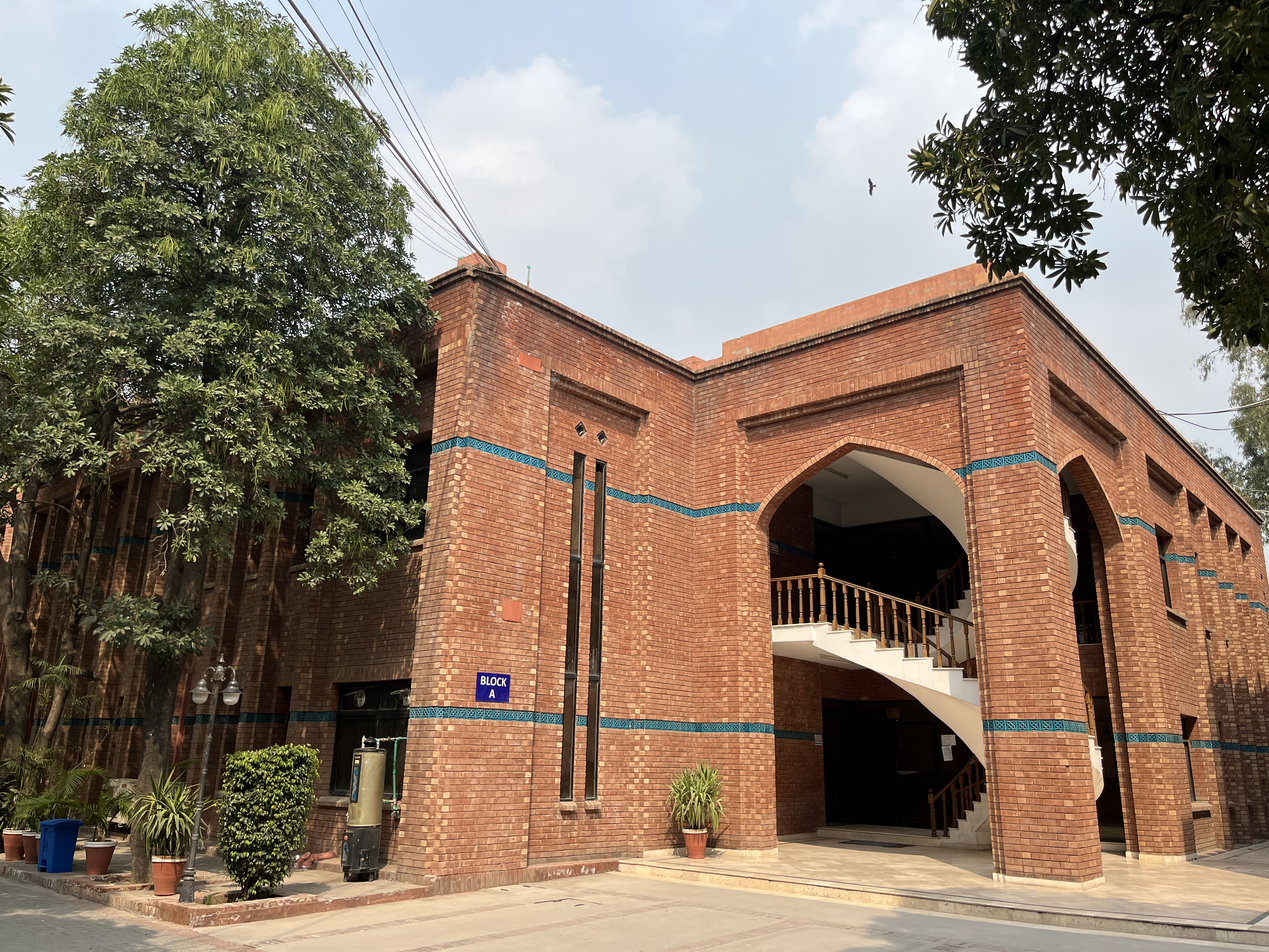Block A: (2, 232, 1269, 882)
